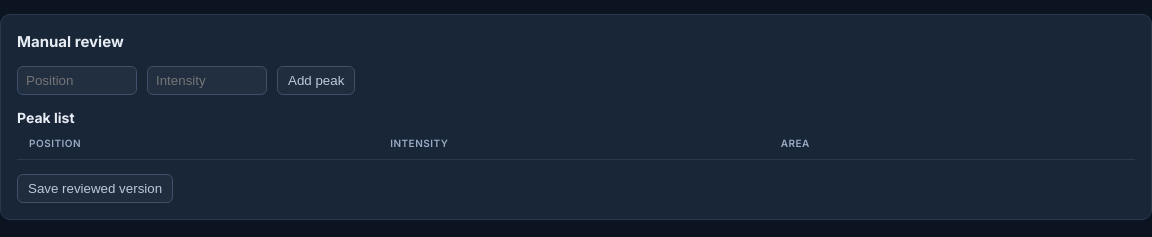
Test: manual peak input validation › rejects position  and intensity  without creating a peak
The image size is (1152, 237).
Click the button "Add peak".
click(316, 80)  # box [277,66,355,94]
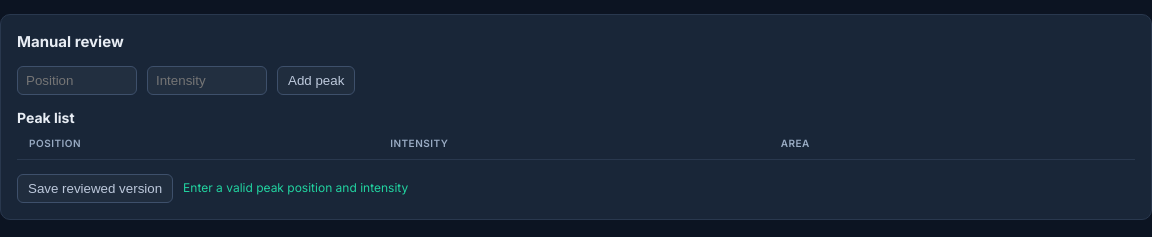
expect the number of rows is 1: met, box [17,128,1135,159]
expect the message reads "Enter a valid peak position and intensity": met, box [183,180,408,195]
